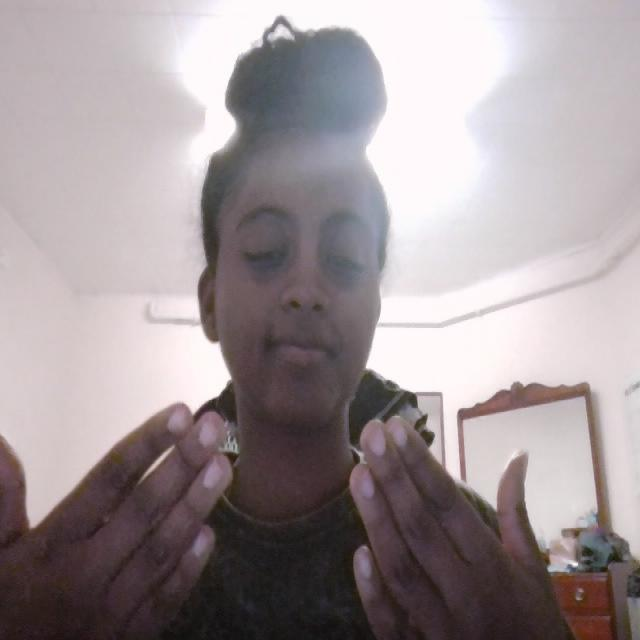thanks: (0, 385, 575, 640)
